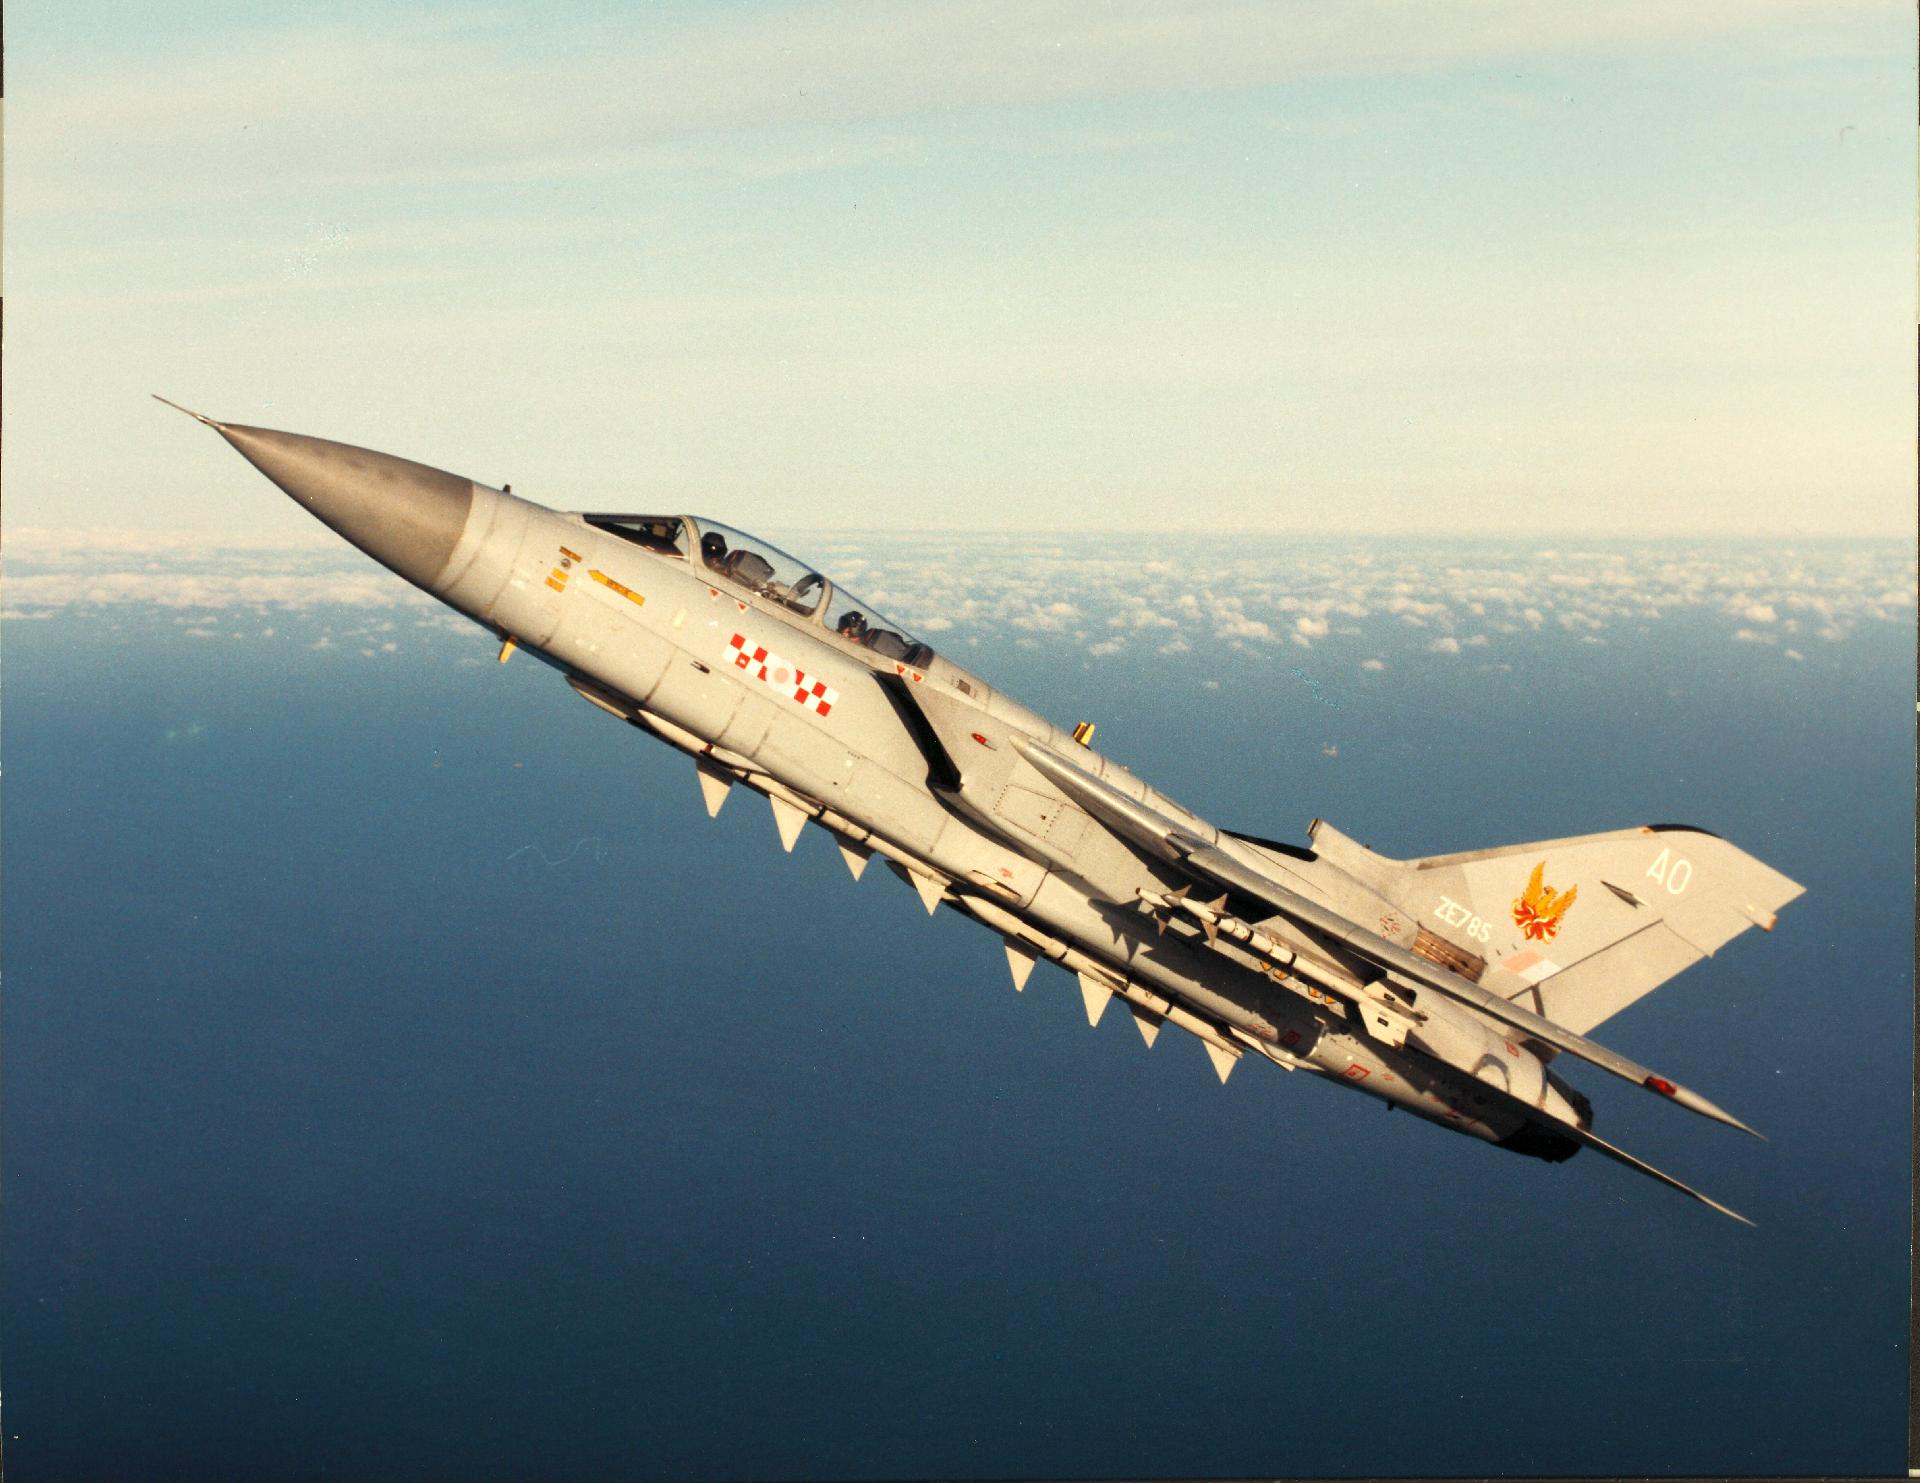Tornado: (149, 393, 1808, 1231)
